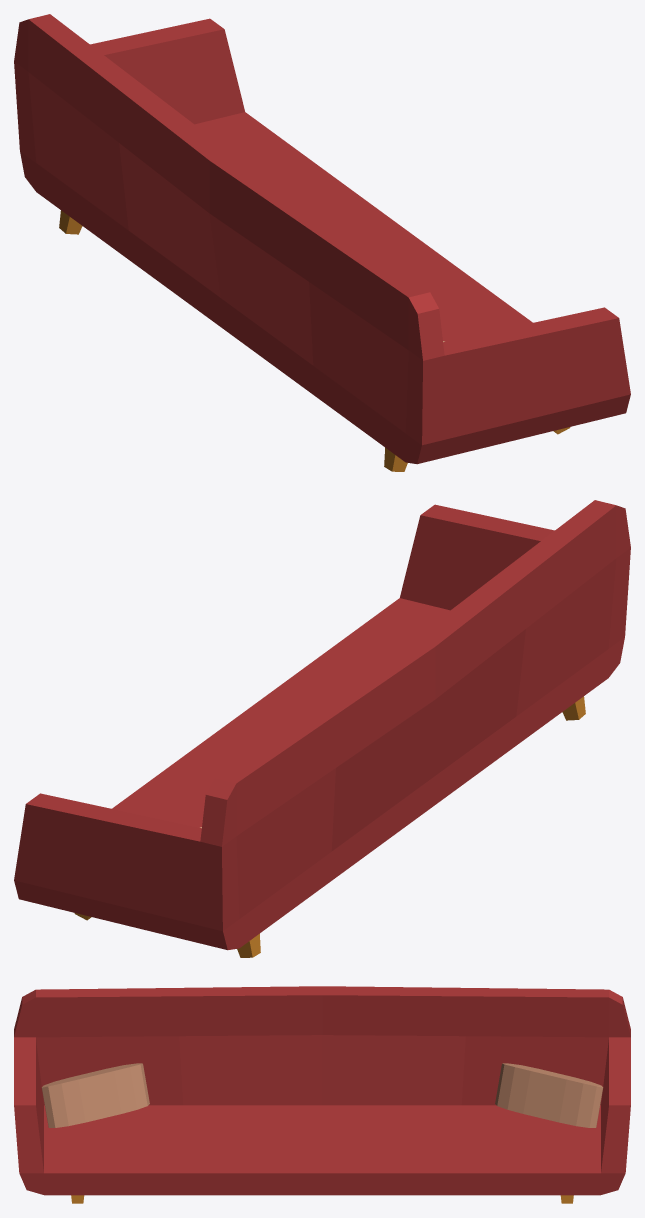
Rendered from Couch.fbx.
3 views of the same model, one above another, from view 1: azimuth 30°, elevation 25°; view 2: azimuth 150°, elevation 25°; view 3: azimuth 270°, elevation 25° (orthographic). The views are drawn at different scales.
Visible parts, largest first — view 1: Couch; view 2: Couch; view 3: Couch.
Boxes of the visible parts, <box> form: Couch: <box>14,14,630,471</box>; Couch: <box>14,500,630,957</box>; Couch: <box>14,986,630,1203</box>.
Size of the model in its own units: 172 by 147 by 554.
